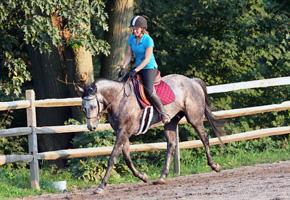person: (118, 17, 170, 124)
